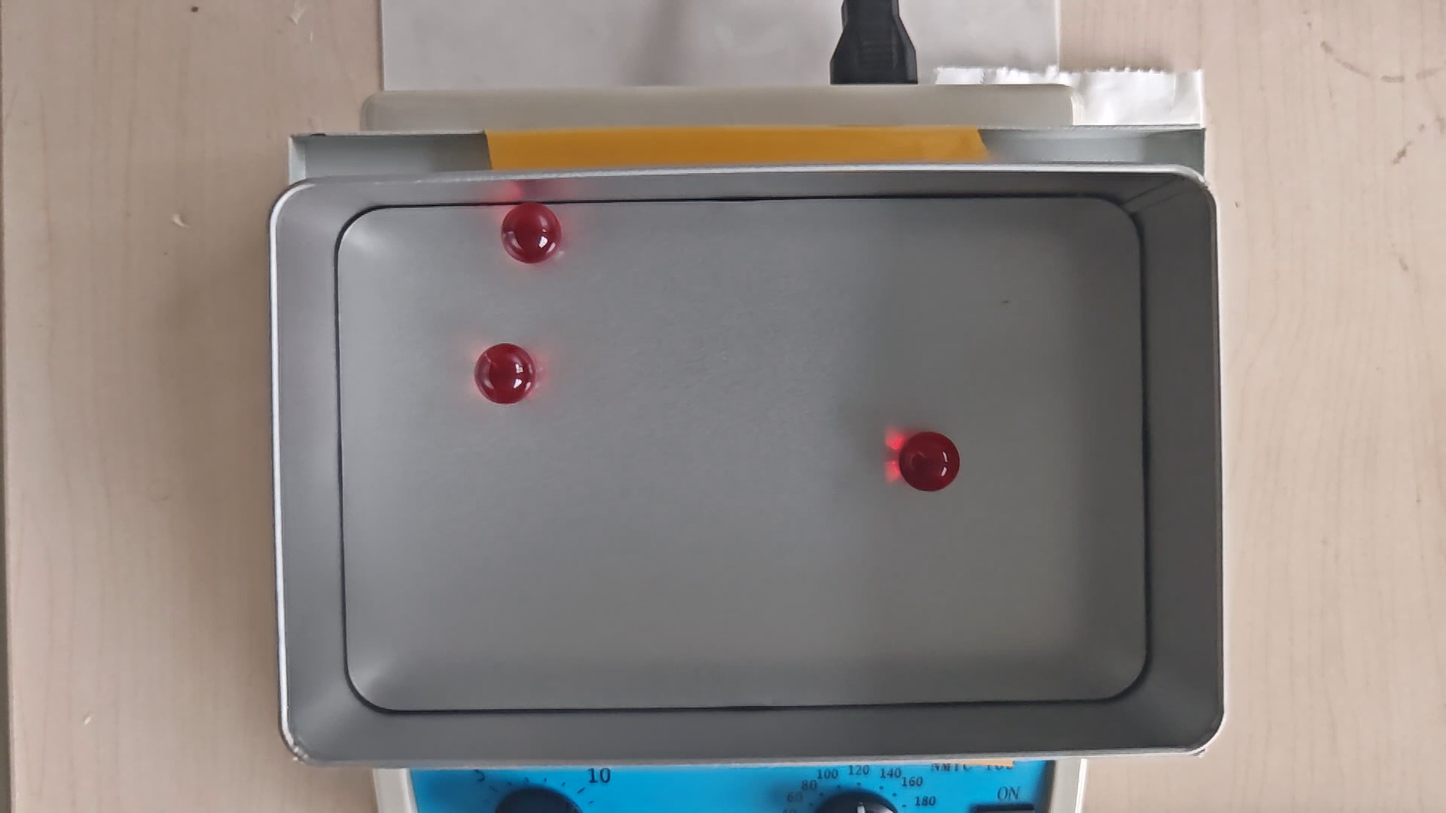ball: (900, 431, 961, 492), (474, 343, 533, 406), (502, 202, 561, 263)
container: (341, 197, 1146, 708)
